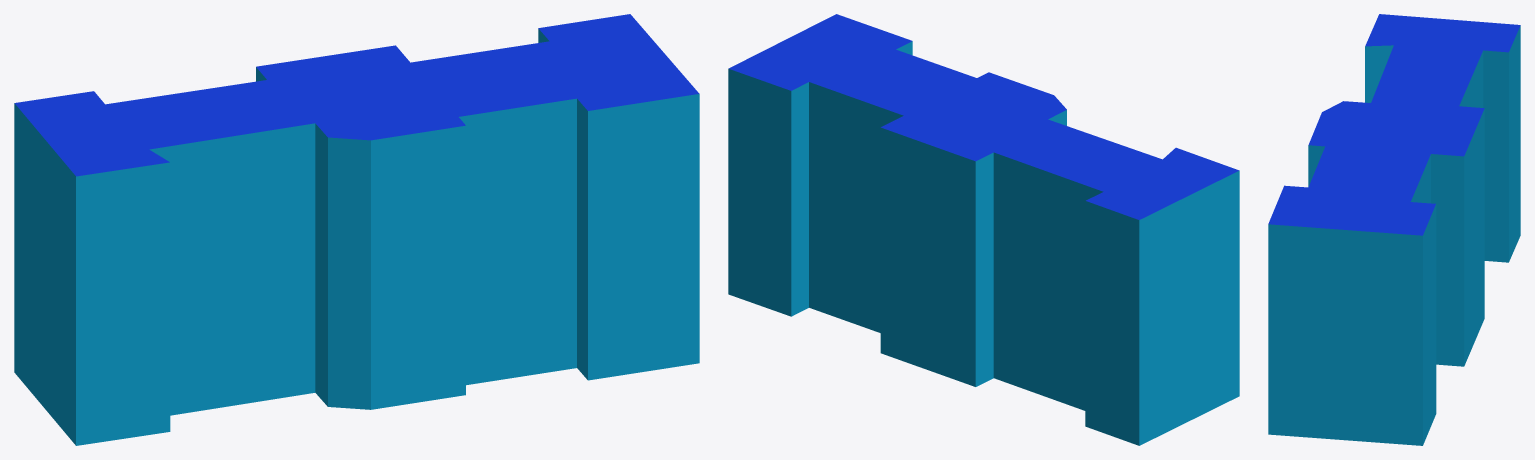
File: map_21.osm_buildings.001.gltf
The picture shows the model from 3 angles, left to right: view 1: azimuth 30°, elevation 25°; view 2: azimuth 150°, elevation 25°; view 3: azimuth 270°, elevation 25°; orthographic projection. The views are drawn at different scales.
Parts seen in each view (by area): view 1: map_21.osm_buildings.001; view 2: map_21.osm_buildings.001; view 3: map_21.osm_buildings.001.
Boxes of the visible parts, <box> form: map_21.osm_buildings.001: <box>14,14,699,445</box>; map_21.osm_buildings.001: <box>728,14,1239,445</box>; map_21.osm_buildings.001: <box>1268,14,1520,445</box>.
Bounding box in the file's own units: 47.5 × 21.01 × 22.86.
